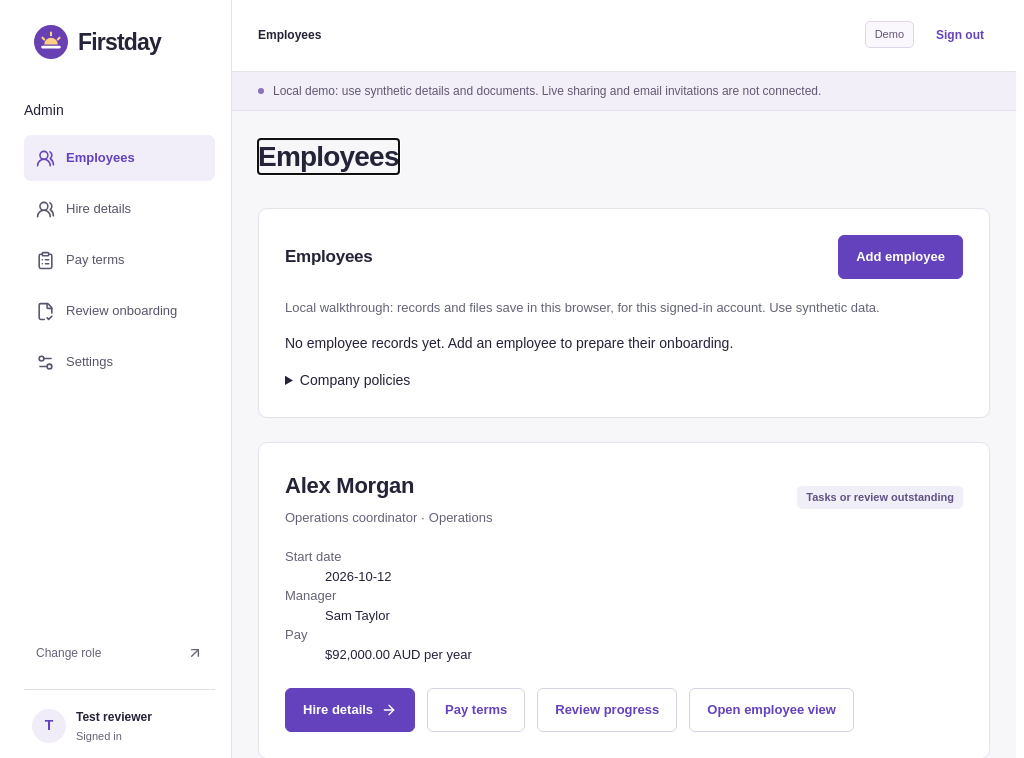
it: Admin local preparation and review › rejects a signed snapshot with pay different from the current offer
Click the button "Review onboarding" at (120, 311), box [24, 288, 215, 334]
(page scrolled)
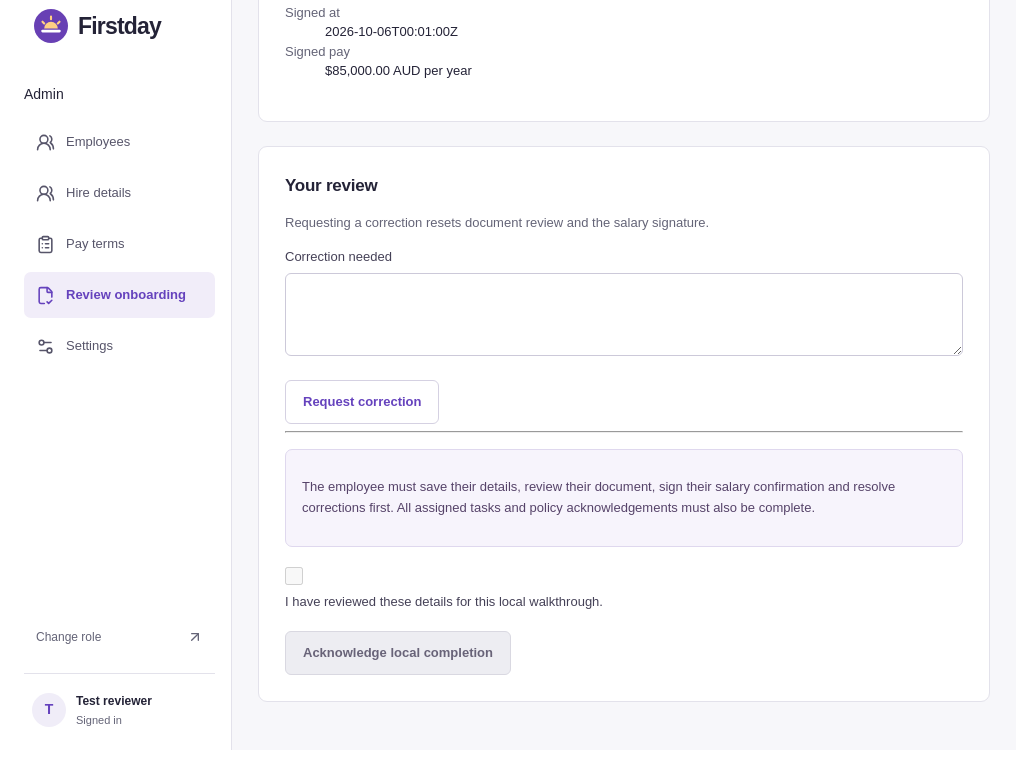
Expected: the button "Acknowledge local completion" is disabled, [285, 630, 511, 674]
